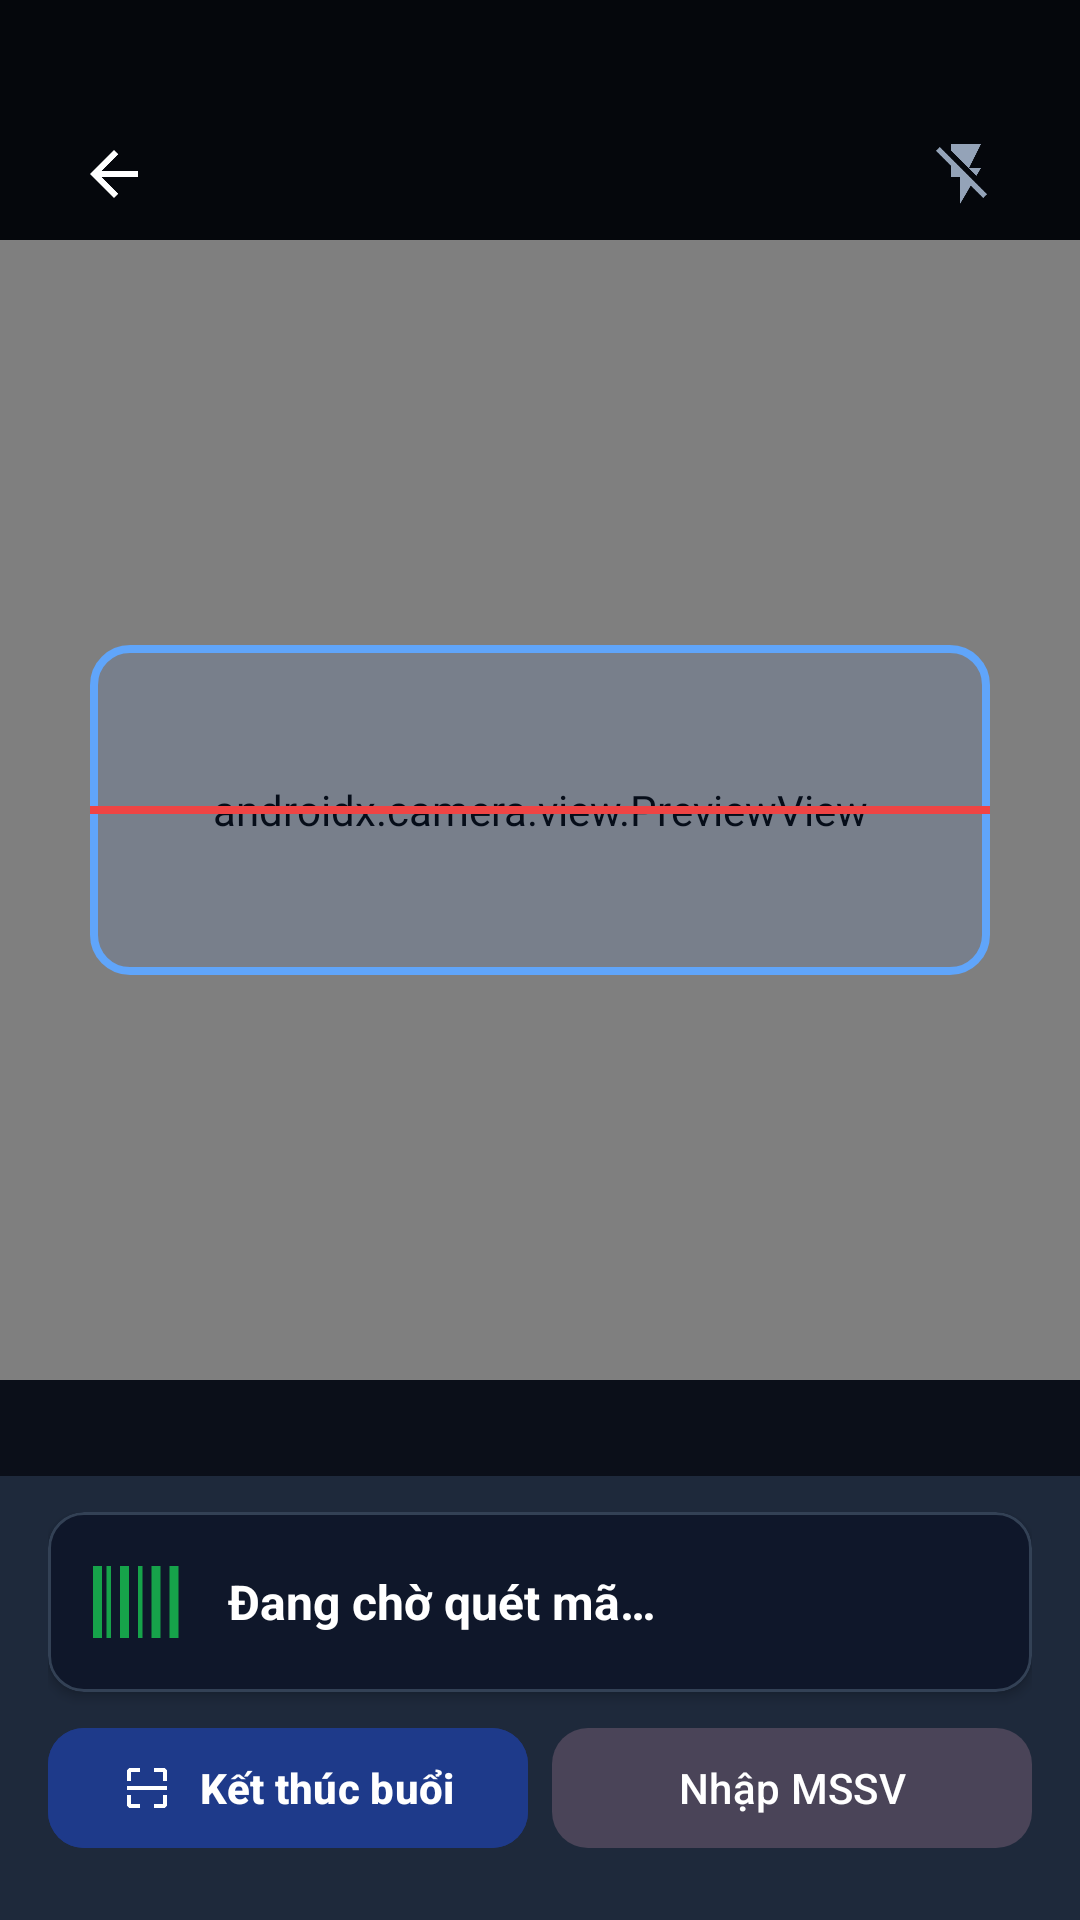

Icons on this 1080*1920 Android screen, each with the point to tap as [x,y]:
barcode: [136,1602]
Quay lại: [114,174]
Đèn pin: [961,174]
